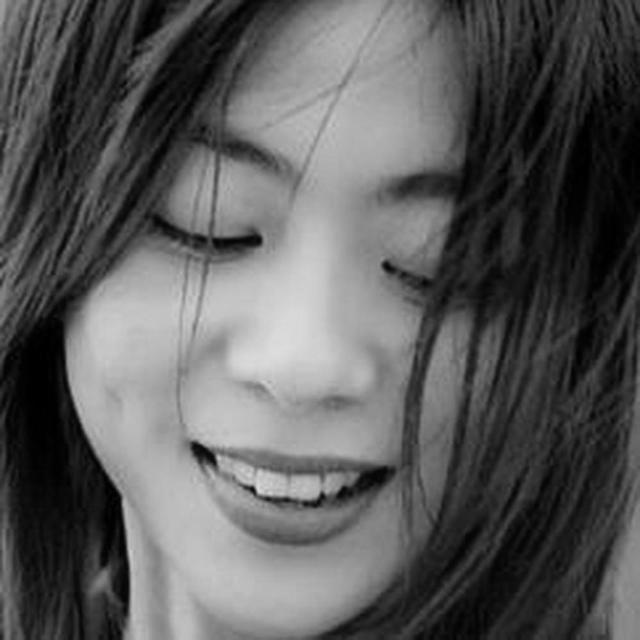real: (55, 39, 565, 640), (140, 162, 528, 298)
